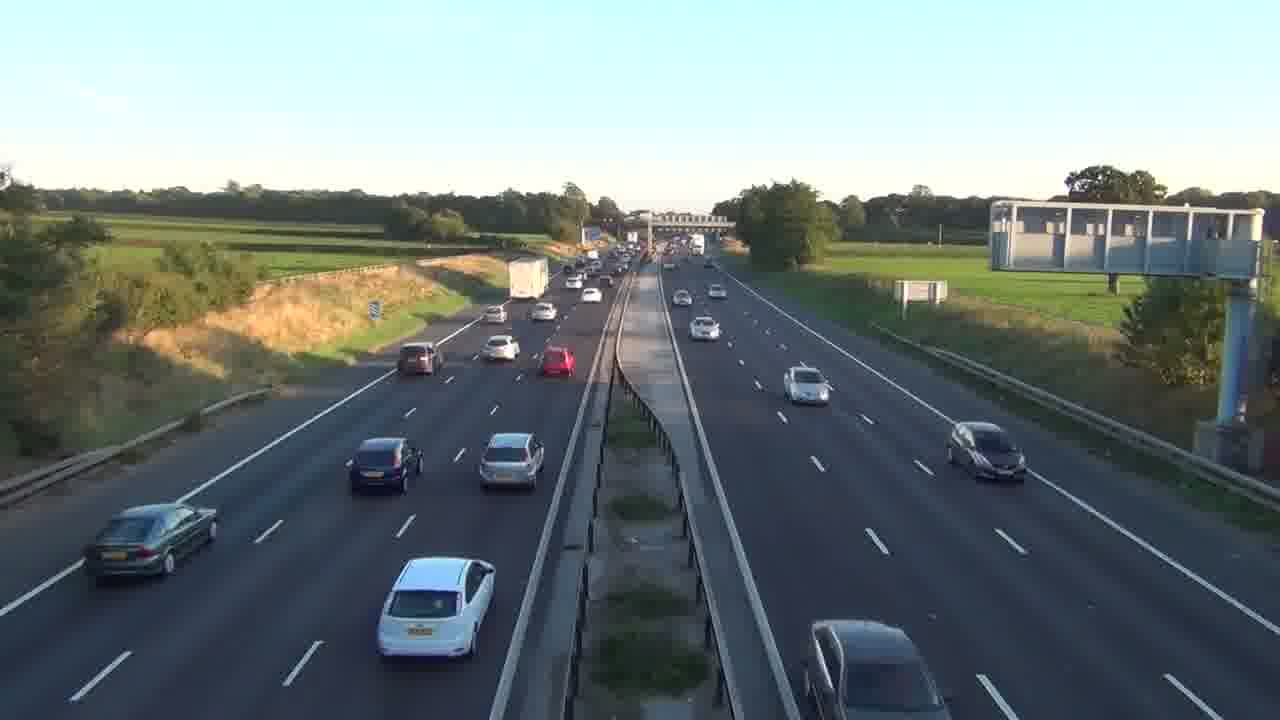car: (802, 618, 951, 718), (375, 555, 497, 661), (83, 501, 219, 586), (945, 420, 1028, 482), (346, 436, 422, 495), (478, 431, 546, 491), (783, 363, 834, 406), (541, 344, 576, 379), (478, 334, 520, 362), (688, 315, 722, 342), (673, 287, 693, 307), (706, 282, 727, 299)
truck: (397, 342, 437, 375)
